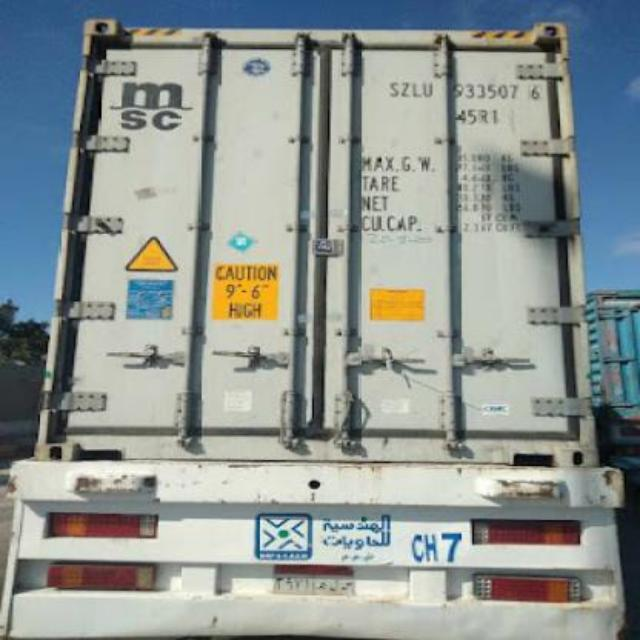0: (496, 78, 508, 102)
3: (470, 76, 486, 102), (462, 76, 474, 100)
5: (484, 78, 498, 102)
6: (528, 81, 544, 101)
7: (506, 78, 520, 102)
9: (451, 75, 464, 102)
L: (408, 78, 422, 100)
S: (386, 74, 398, 100)
U: (420, 75, 436, 101)
Z: (398, 74, 412, 104)
